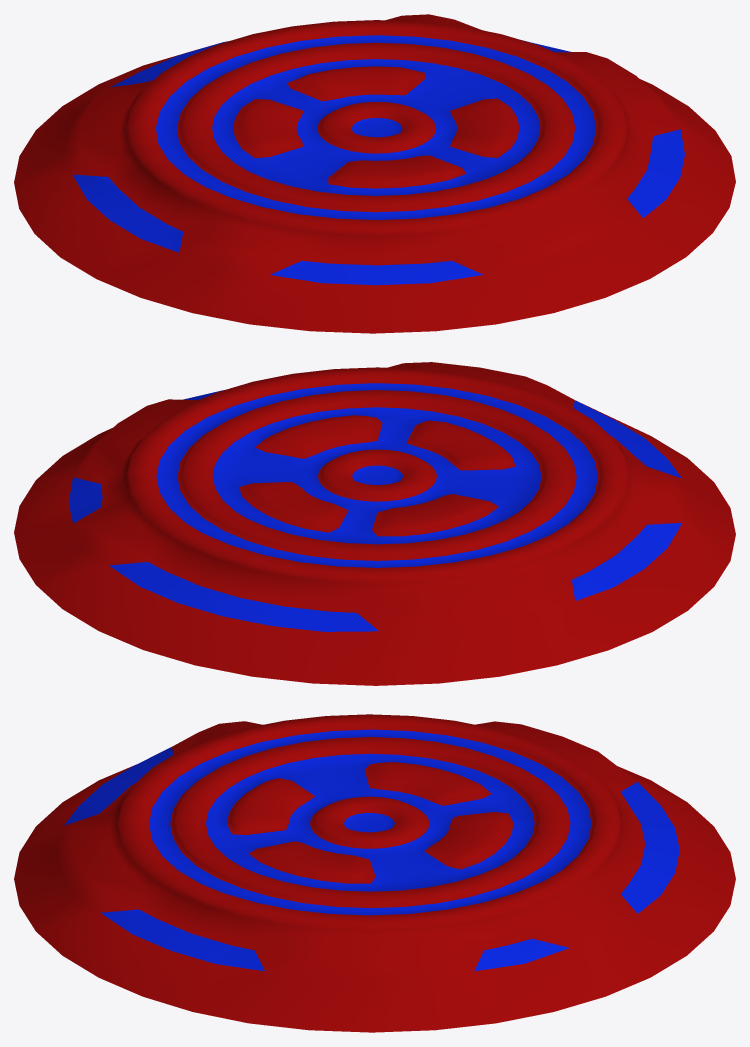
The model's file is 3D_envtp.FBX.
3 views of the same model, one above another, from view 1: azimuth 30°, elevation 25°; view 2: azimuth 150°, elevation 25°; view 3: azimuth 270°, elevation 25° (orthographic).
Parts seen in each view (by area): view 1: Cylinder001; view 2: Cylinder001; view 3: Cylinder001.
Part boxes in pixels (x1,y1,x2,y2): Cylinder001: (14, 14, 735, 333); Cylinder001: (14, 362, 735, 685); Cylinder001: (14, 714, 735, 1032).
Size of the model in its own units: 788 by 72.77 by 783.
